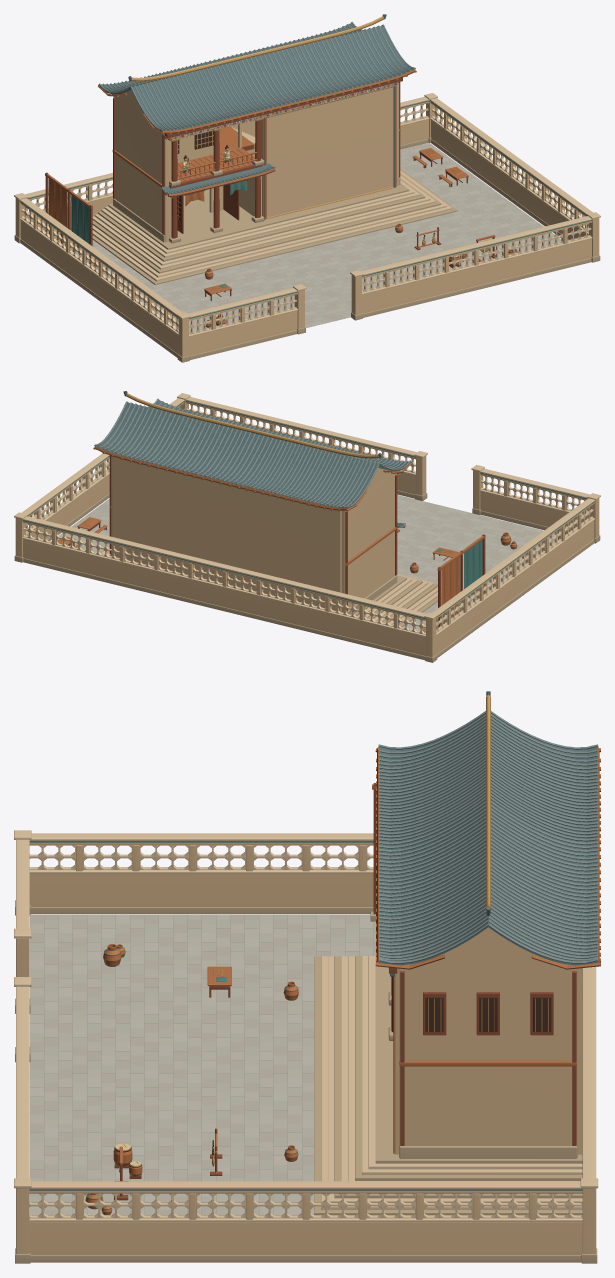
Rendered from music-pavilion.glb.
3 views of the same model, one above another, from view 1: azimuth 30°, elevation 25°; view 2: azimuth 150°, elevation 25°; view 3: azimuth 270°, elevation 25° (orthographic). The views are drawn at different scales.
Visible parts, largest first — view 1: court-paving--court-limestone-0, architecture--plaster.001, courtyard-enclosure--plaster.001, courtyard-enclosure--stone-light.001, main-roof--tile.001, terraced-foundation--stone-light, terraced-foundation--stone, main-roof--tile-edge.001, courtyard-enclosure--stone, porch--wood.001, porch--wood-light.001, main-roof--wood-light.001 (+15 smaller); view 2: architecture--plaster.001, courtyard-enclosure--plaster.001, courtyard-enclosure--stone-light.001, main-roof--tile.001, court-paving--court-limestone-0, main-roof--tile-edge.001, courtyard-enclosure--stone, courtyard-enclosure--teal.001, terraced-foundation--stone-light, main-roof--wood-light.001, main-roof--ochre.001, terraced-foundation--stone (+5 smaller); view 3: court-paving--court-limestone-0, main-roof--tile-edge.001, courtyard-enclosure--plaster.001, architecture--plaster.001, courtyard-enclosure--stone-light.001, main-roof--tile.001, terraced-foundation--stone-light, terraced-foundation--stone, court-paving--court-fine-joints, courtyard-enclosure--stone, mural-frame--wood.001, mural-frame--stone.001 (+8 smaller).
Boxes of the visible parts, x1,y1,x2,y2 form: court-paving--court-limestone-0: (71,143,561,332); architecture--plaster.001: (113,85,398,242); courtyard-enclosure--plaster.001: (15,100,599,357); courtyard-enclosure--stone-light.001: (14,93,600,336); main-roof--tile.001: (99,14,413,131); terraced-foundation--stone-light: (92,170,451,281); terraced-foundation--stone: (92,168,457,284); main-roof--tile-edge.001: (98,21,415,131); courtyard-enclosure--stone: (14,137,600,362); porch--wood.001: (169,120,262,238); porch--wood-light.001: (163,135,257,219); main-roof--wood-light.001: (98,23,416,134); architecture--plaster.001: (111,456,396,612); courtyard-enclosure--plaster.001: (15,400,599,657); courtyard-enclosure--stone-light.001: (14,393,600,637); main-roof--tile.001: (96,391,410,508); court-paving--court-limestone-0: (51,495,557,631); main-roof--tile-edge.001: (94,398,411,508); courtyard-enclosure--stone: (14,490,600,662); courtyard-enclosure--teal.001: (22,400,595,618); terraced-foundation--stone-light: (101,547,441,624); main-roof--wood-light.001: (93,400,412,511); main-roof--ochre.001: (126,393,378,458); terraced-foundation--stone: (100,545,441,626); court-paving--court-limestone-0: (30,915,375,1214); main-roof--tile-edge.001: (378,711,598,963); courtyard-enclosure--plaster.001: (16,842,596,1255); architecture--plaster.001: (394,964,582,1157); courtyard-enclosure--stone-light.001: (14,830,598,1222); main-roof--tile.001: (379,691,597,965); terraced-foundation--stone-light: (321,956,582,1209); terraced-foundation--stone: (314,956,582,1214); court-paving--court-fine-joints: (30,915,375,1214); courtyard-enclosure--stone: (15,900,597,1263); mural-frame--wood.001: (400,971,576,1145); mural-frame--stone.001: (399,1146,576,1158).
Bounding box in the file's own units: 46.98 × 17.83 × 32.78.
22 materials, 1 textured.
